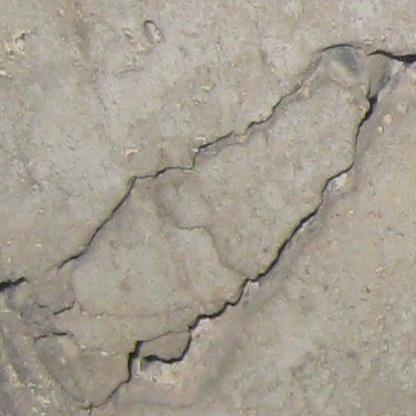Cracks: (79, 159, 359, 416), (56, 129, 238, 273), (242, 80, 310, 138), (317, 40, 416, 72), (352, 90, 382, 147), (0, 274, 31, 297), (50, 298, 80, 321), (50, 329, 73, 342)
